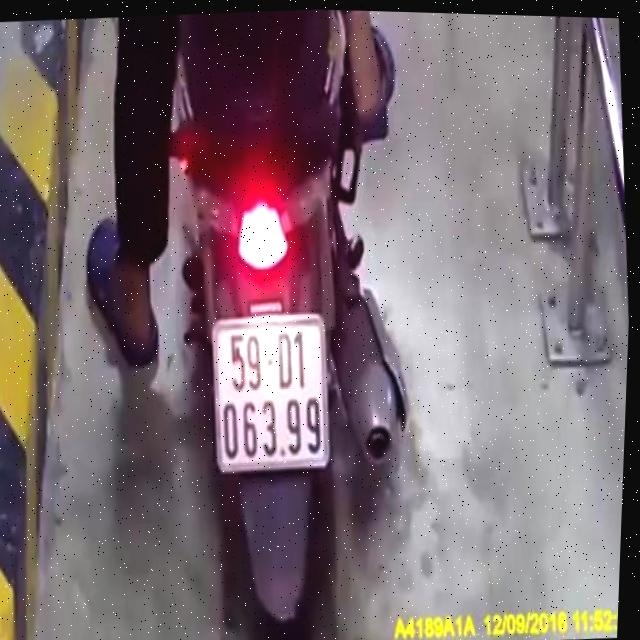motorcycle: (137, 5, 435, 640)
plate: (199, 299, 337, 478)
